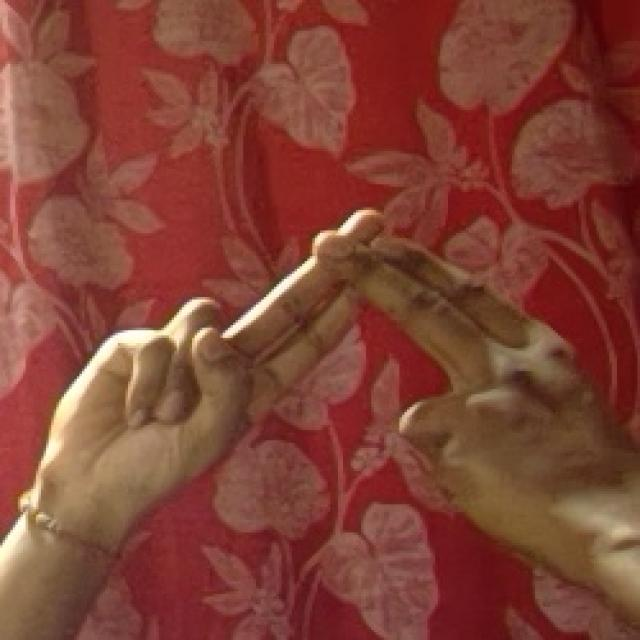Alphabet-F: (37, 200, 611, 540)
